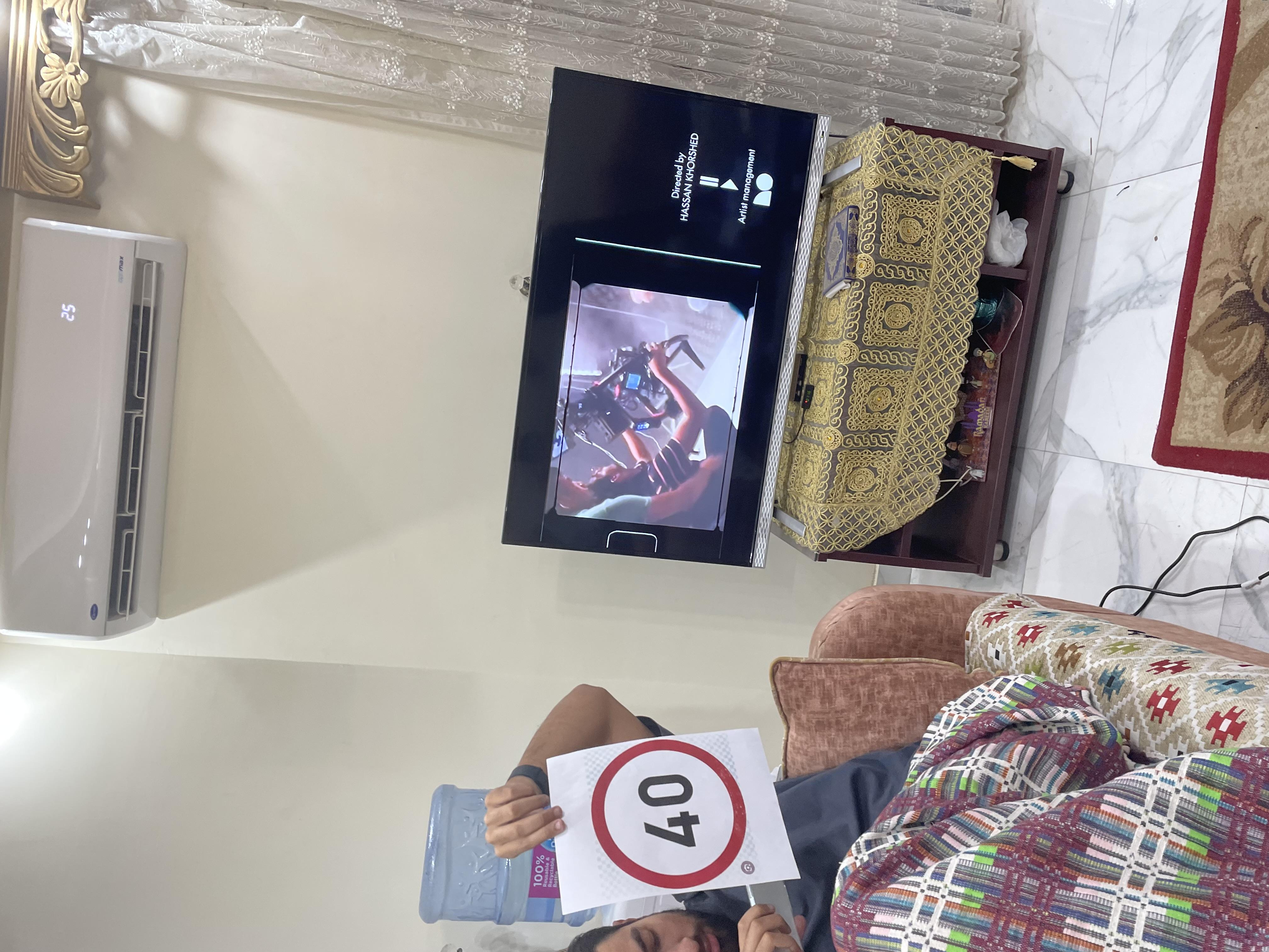40-Speed: (84, 443, 282, 561)
